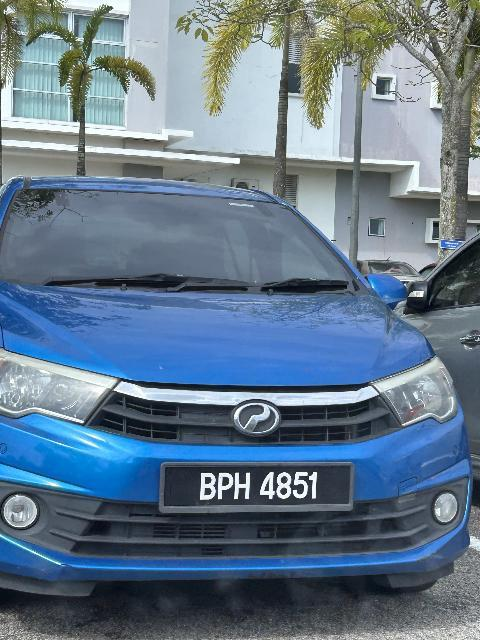BPH4851: (160, 458, 355, 513)
License_Plate: (160, 458, 355, 513)
car: (1, 174, 469, 610)
